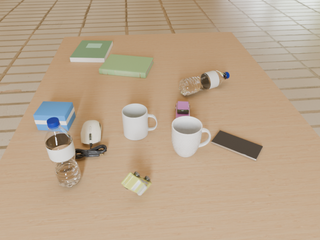book: (99, 54, 153, 78), (70, 41, 113, 62)
bottle: (45, 117, 81, 188), (179, 71, 229, 96)
box: (33, 101, 75, 131)
cup: (171, 116, 211, 157), (122, 104, 157, 140)
mouse: (81, 120, 101, 147)
phone: (211, 131, 263, 161)
toy_car: (121, 172, 152, 195), (176, 102, 190, 118)
